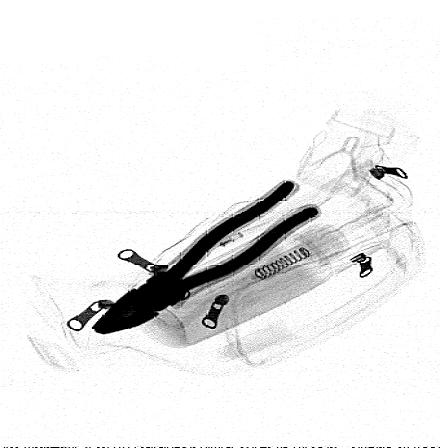Pliers: (93, 178, 319, 334)
